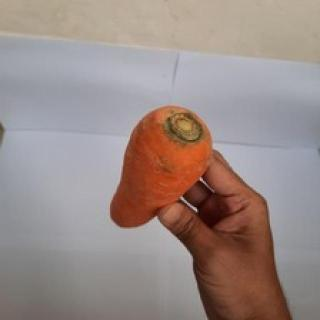carrot: (108, 97, 216, 237)
